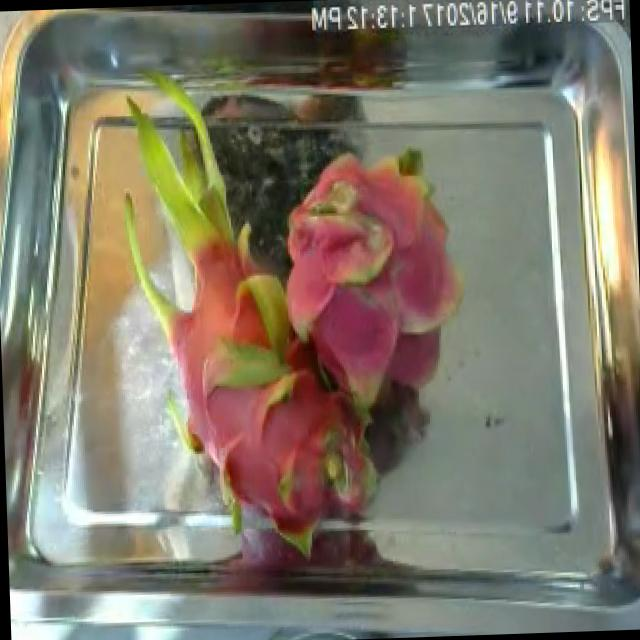Fruit: (260, 131, 460, 322)
